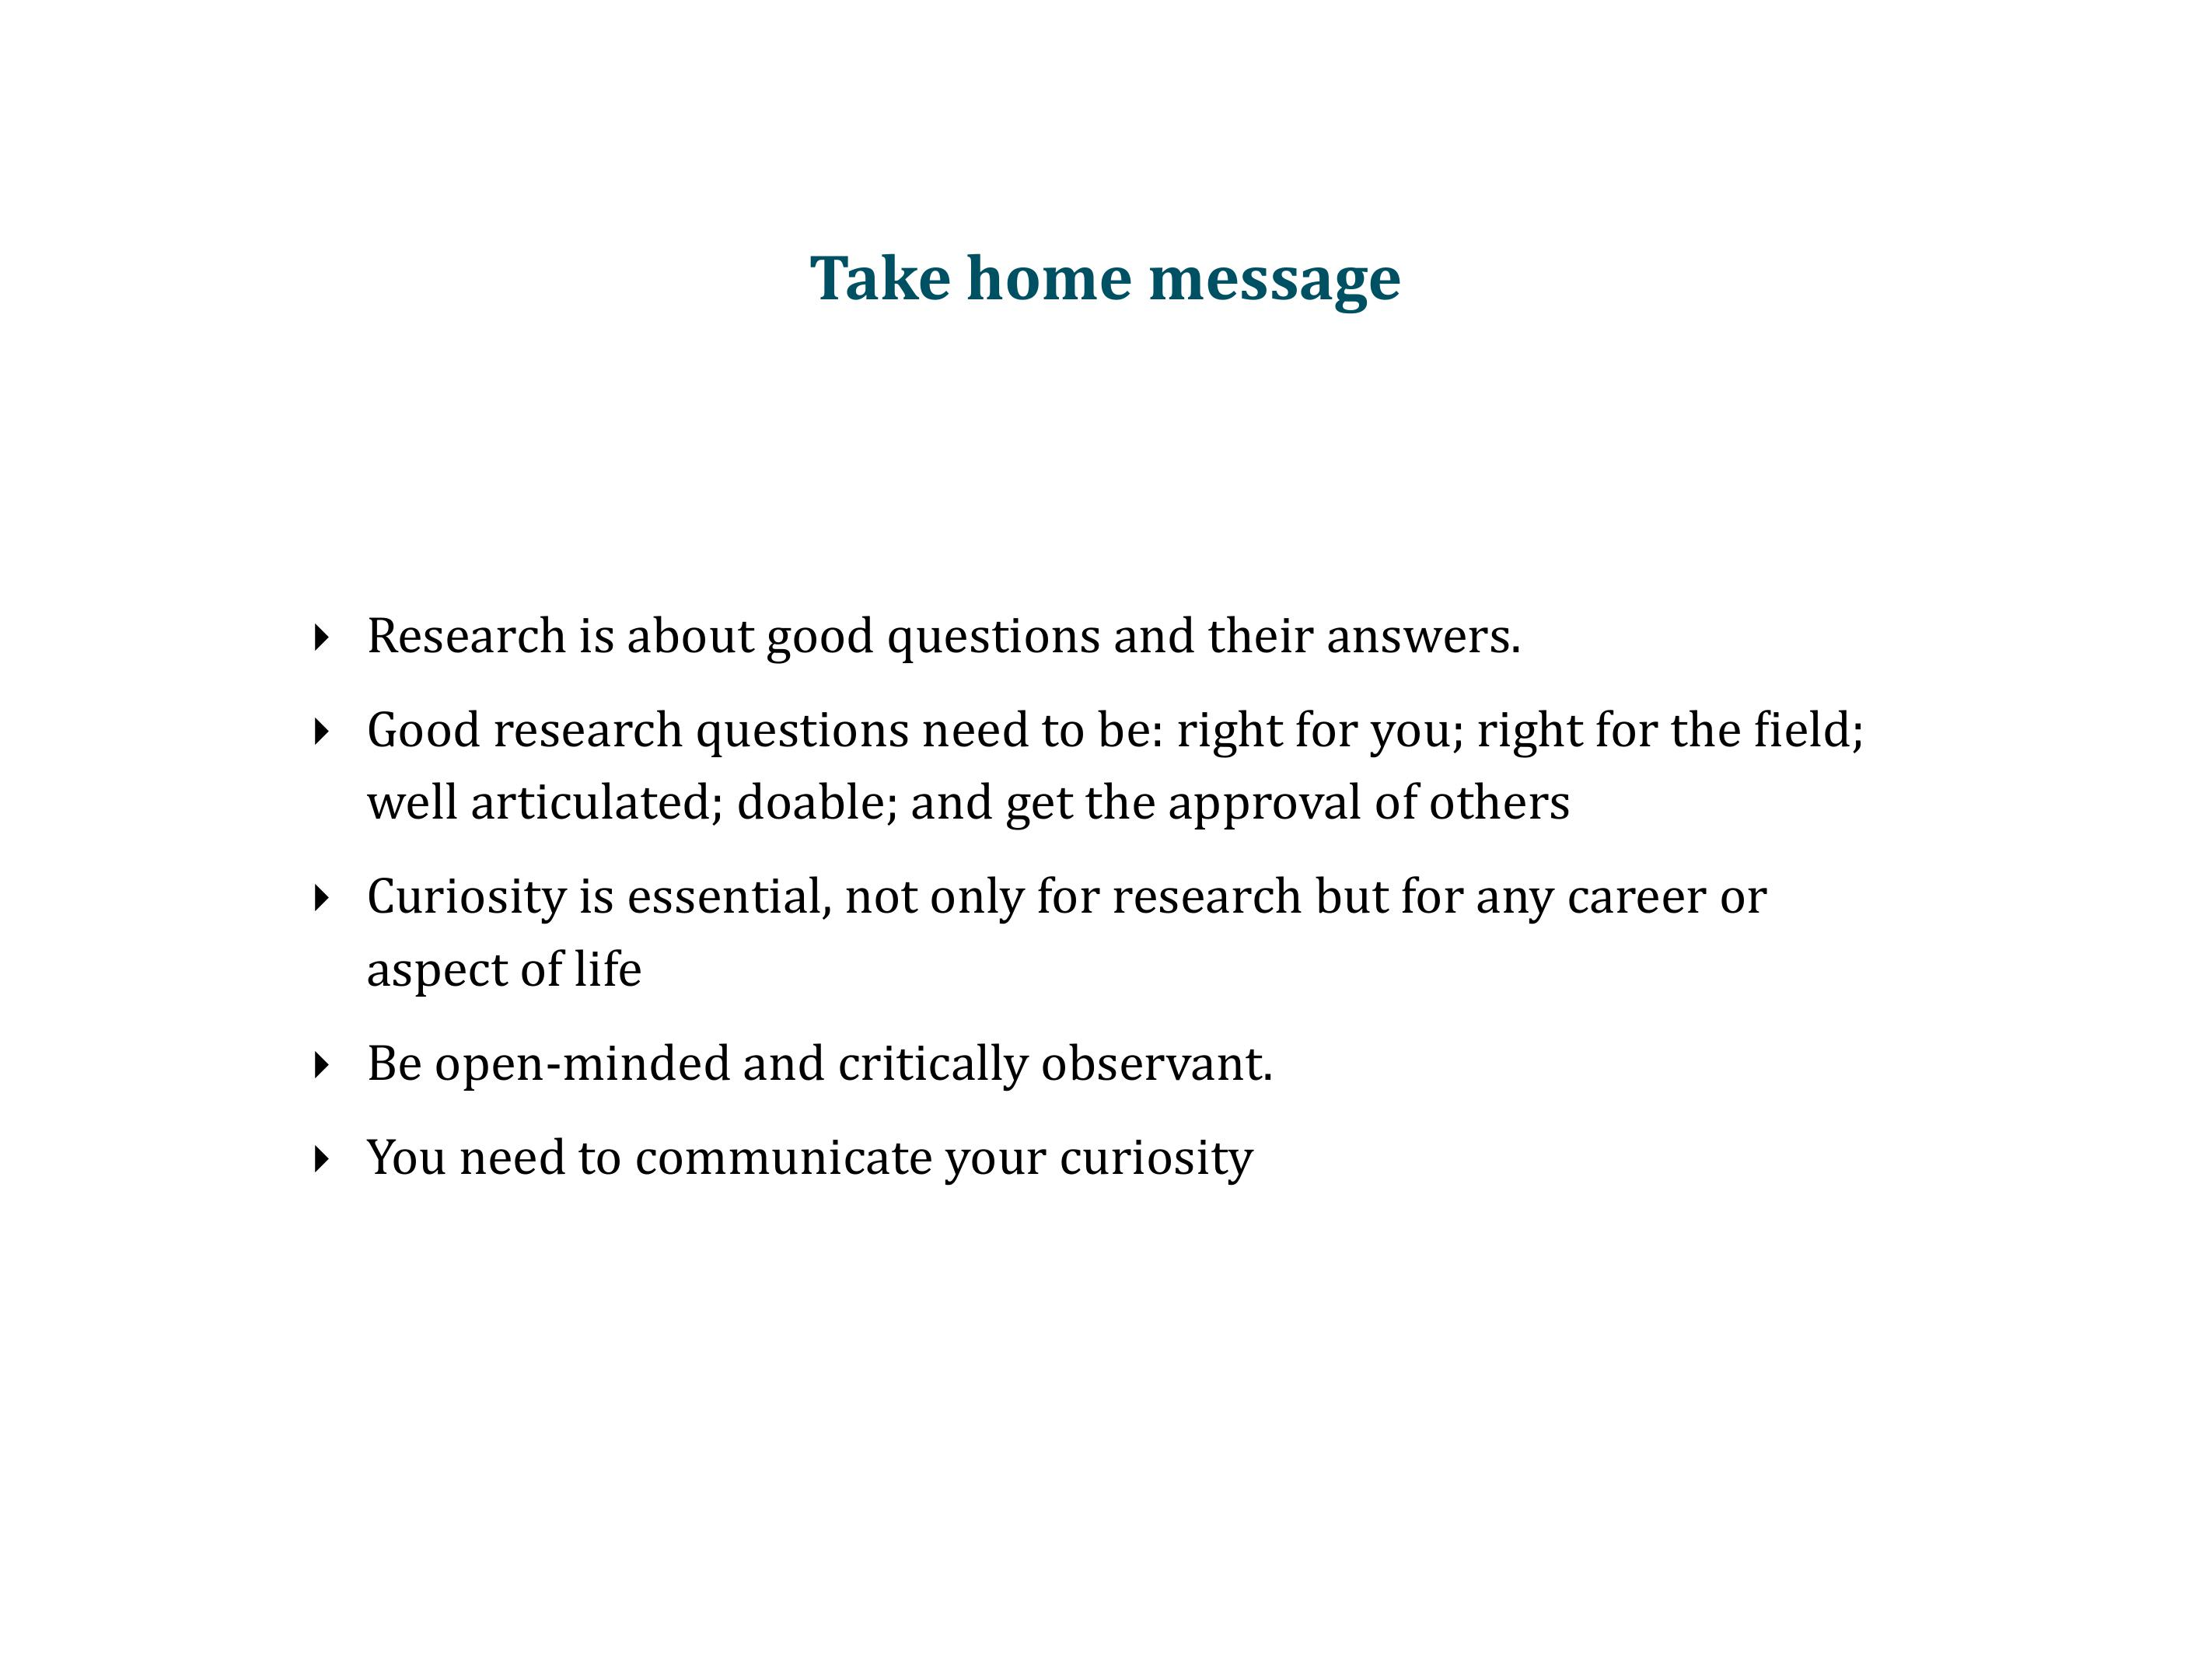Title: (791, 237, 1421, 322)
